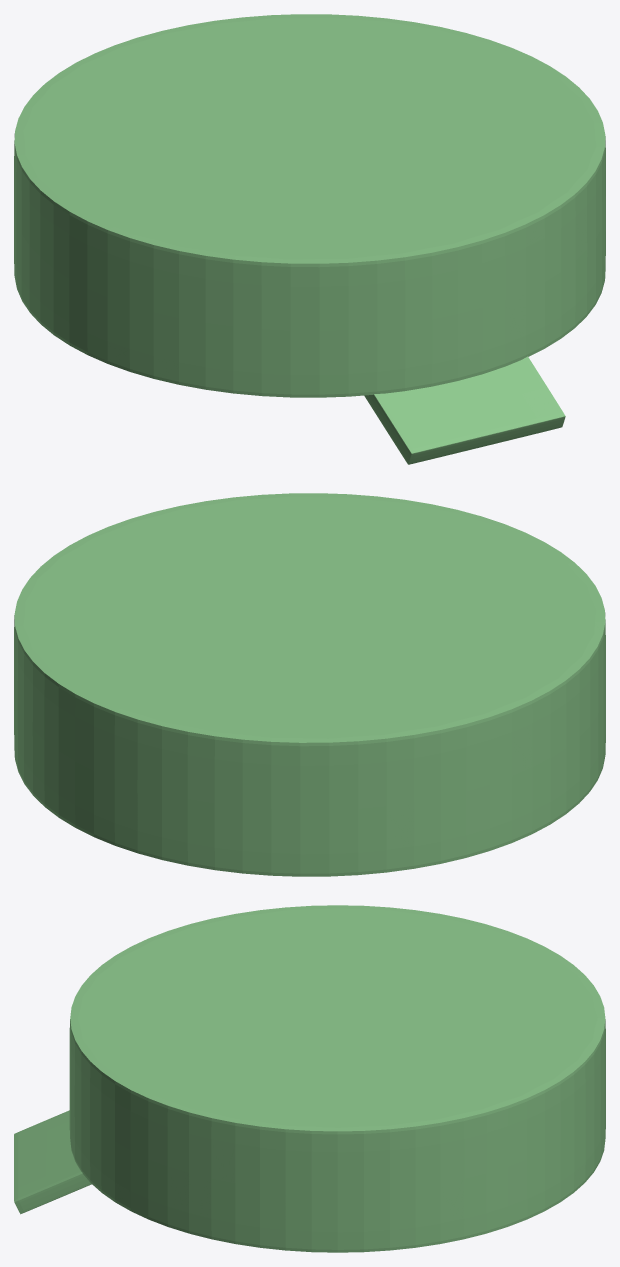
File: Landmark_ArmyFoxhole_Hi_083743.fbx
3 renders of one model, top to bottom at view 1: azimuth 30°, elevation 25°; view 2: azimuth 150°, elevation 25°; view 3: azimuth 270°, elevation 25°, orthographic. The views are drawn at different scales.
Visible parts, largest first — view 1: Cylinder, Cube; view 2: Cylinder; view 3: Cylinder, Cube.
Part boxes in pixels (bbox=[...]): Cylinder: bbox=[14, 14, 605, 397]; Cube: bbox=[364, 356, 565, 464]; Cylinder: bbox=[14, 493, 605, 876]; Cylinder: bbox=[69, 905, 605, 1252]; Cube: bbox=[14, 1110, 91, 1214].
Size of the model in its own units: 9.94 by 3.32 by 10.97.
